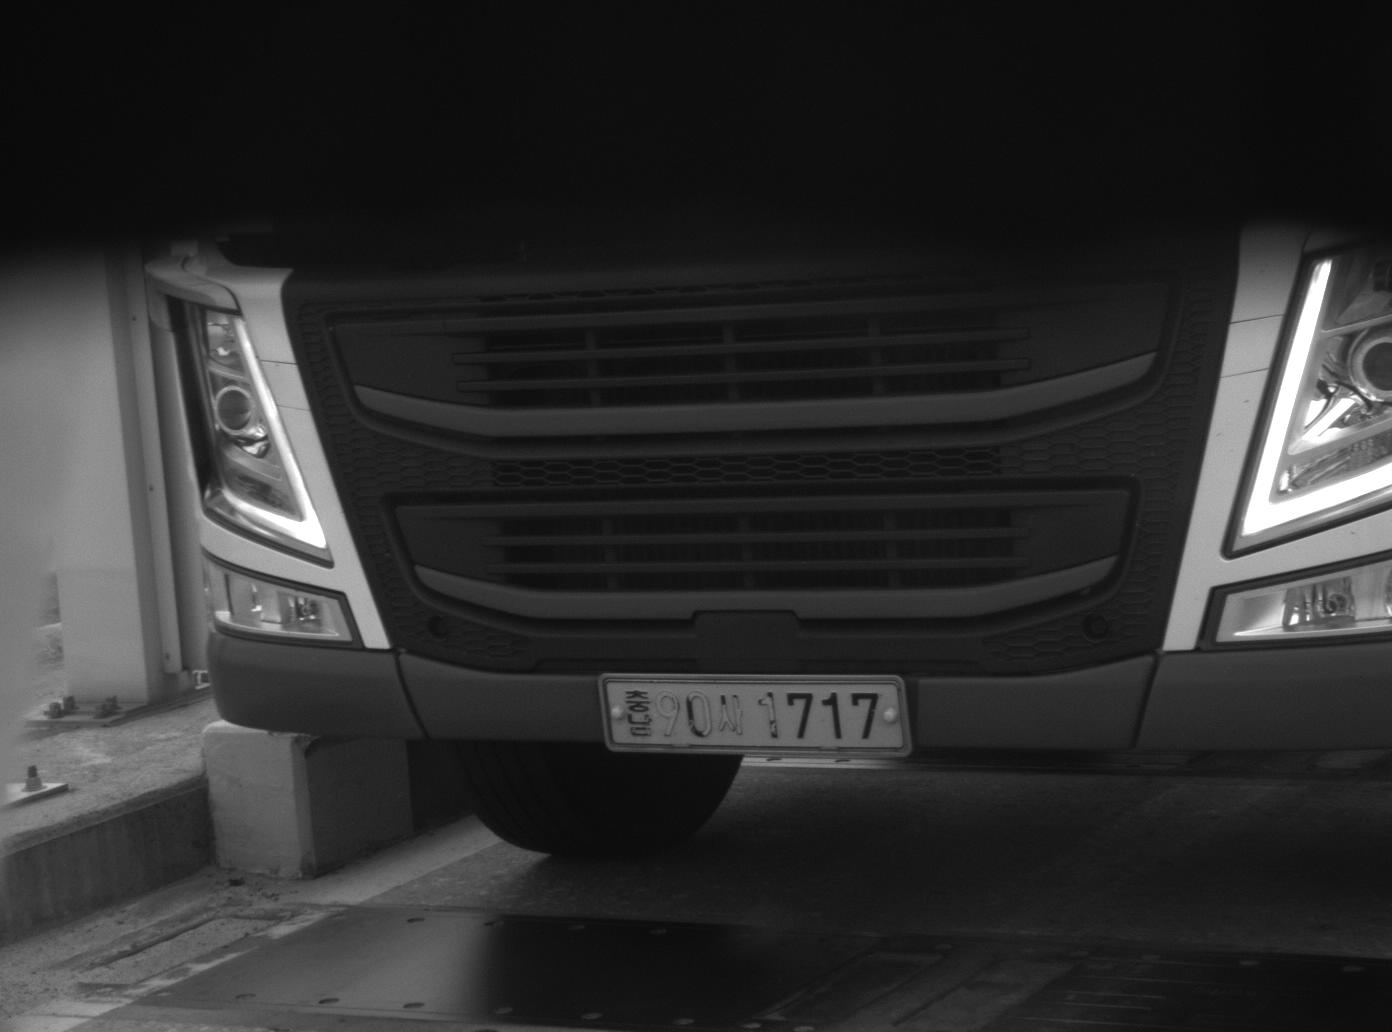car: (139, 233, 1392, 863)
plate: (596, 669, 914, 758)
